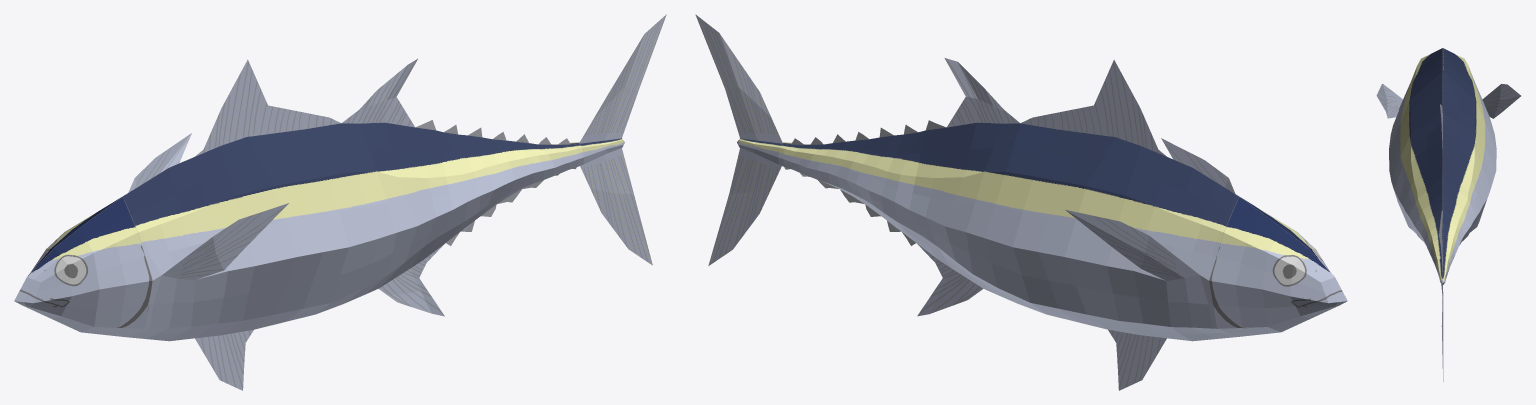
File: chewna_1.obj
3 renders of one model, left to right at view 1: azimuth 30°, elevation 25°; view 2: azimuth 150°, elevation 25°; view 3: azimuth 270°, elevation 25°, orthographic. The views are drawn at different scales.
Visible parts, largest first — view 1: Cube; view 2: Cube; view 3: Cube.
Part boxes in pixels (left/top/right/bottom): Cube: left=14, top=14, right=666, bottom=390; Cube: left=695, top=14, right=1347, bottom=390; Cube: left=1376, top=48, right=1520, bottom=381.
Size of the model in its own units: 8.04 by 3.89 by 2.07.
1 material, 1 textured.
